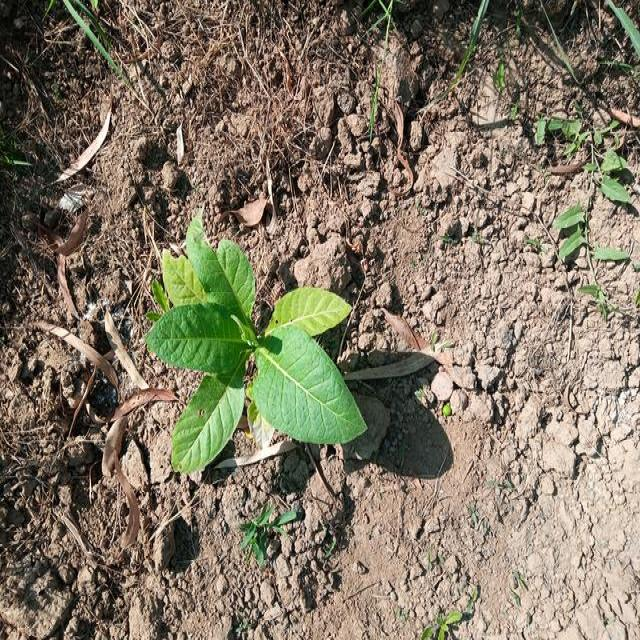crop: (152, 219, 360, 464)
